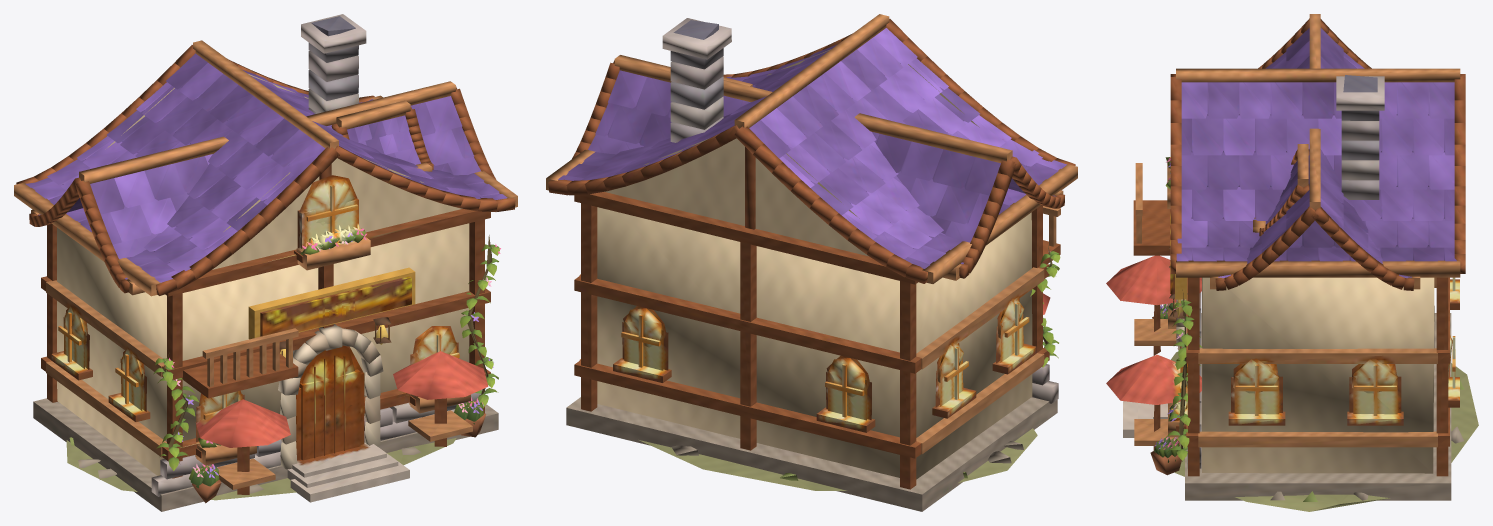
The model's file is bld_guest_inn.glb.
3 views of the same model, side by side, from view 1: azimuth 30°, elevation 25°; view 2: azimuth 150°, elevation 25°; view 3: azimuth 270°, elevation 25° (orthographic). The views are drawn at different scales.
Visible parts, largest first — view 1: Body; view 2: Body; view 3: Body.
Part boxes in pixels (bbox=[...]): Body: bbox=[14, 14, 517, 511]; Body: bbox=[546, 14, 1077, 511]; Body: bbox=[1106, 14, 1478, 511].
Size of the model in its own units: 5.86 by 5.32 by 4.75.
1 material, 1 textured.
